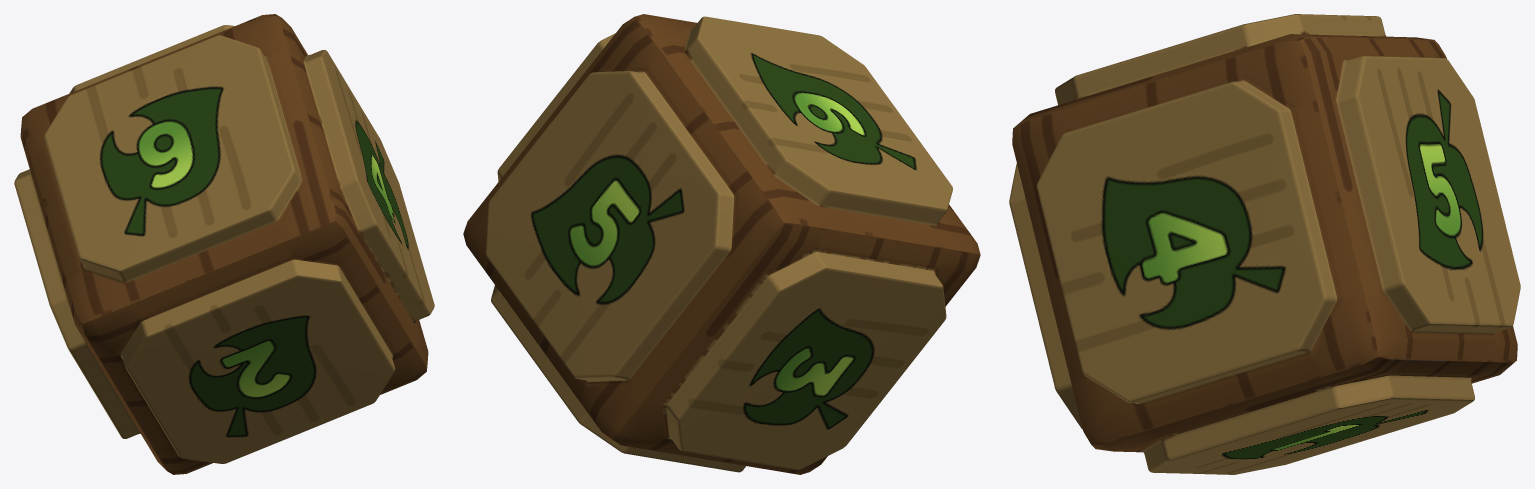
The model's file is dice-2.glb.
The picture shows the model from 3 angles, left to right: view 1: azimuth 30°, elevation 25°; view 2: azimuth 150°, elevation 25°; view 3: azimuth 270°, elevation 25°; orthographic projection. The views are drawn at different scales.
Visible parts, largest first — view 1: dice_02; view 2: dice_02; view 3: dice_02.
Part boxes in pixels (x1,y1,x2,y2): dice_02: [14, 14, 434, 474]; dice_02: [463, 14, 980, 474]; dice_02: [1009, 14, 1520, 474].
Size of the model in its own units: 4.18 by 4.27 by 4.08.
1 material, 1 textured.
